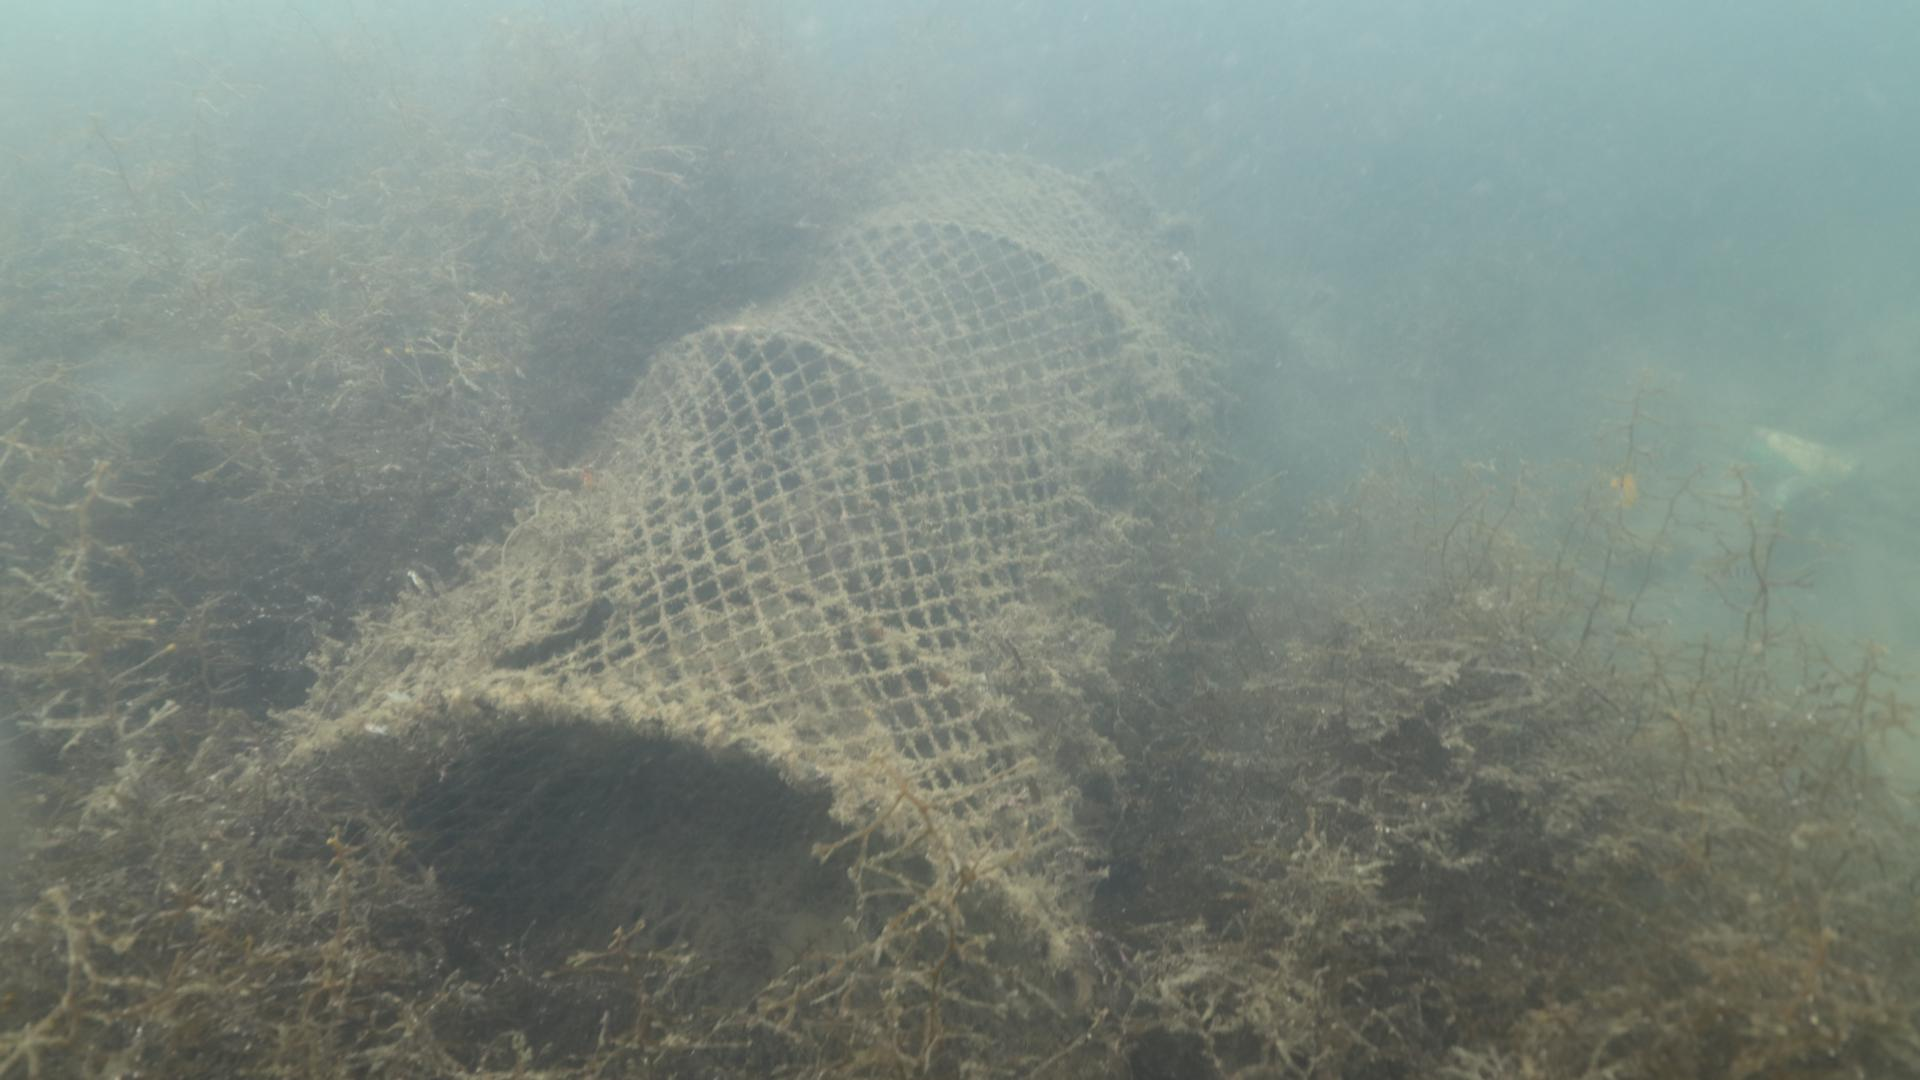spring fish trap: (266, 142, 1218, 976)
